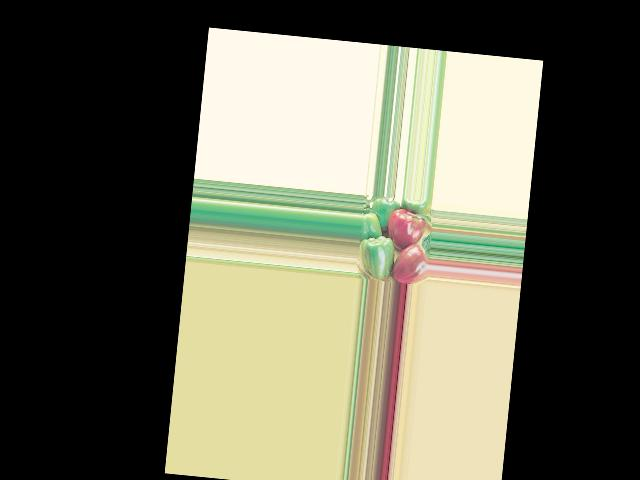bell_pepper: (393, 242, 429, 285)
